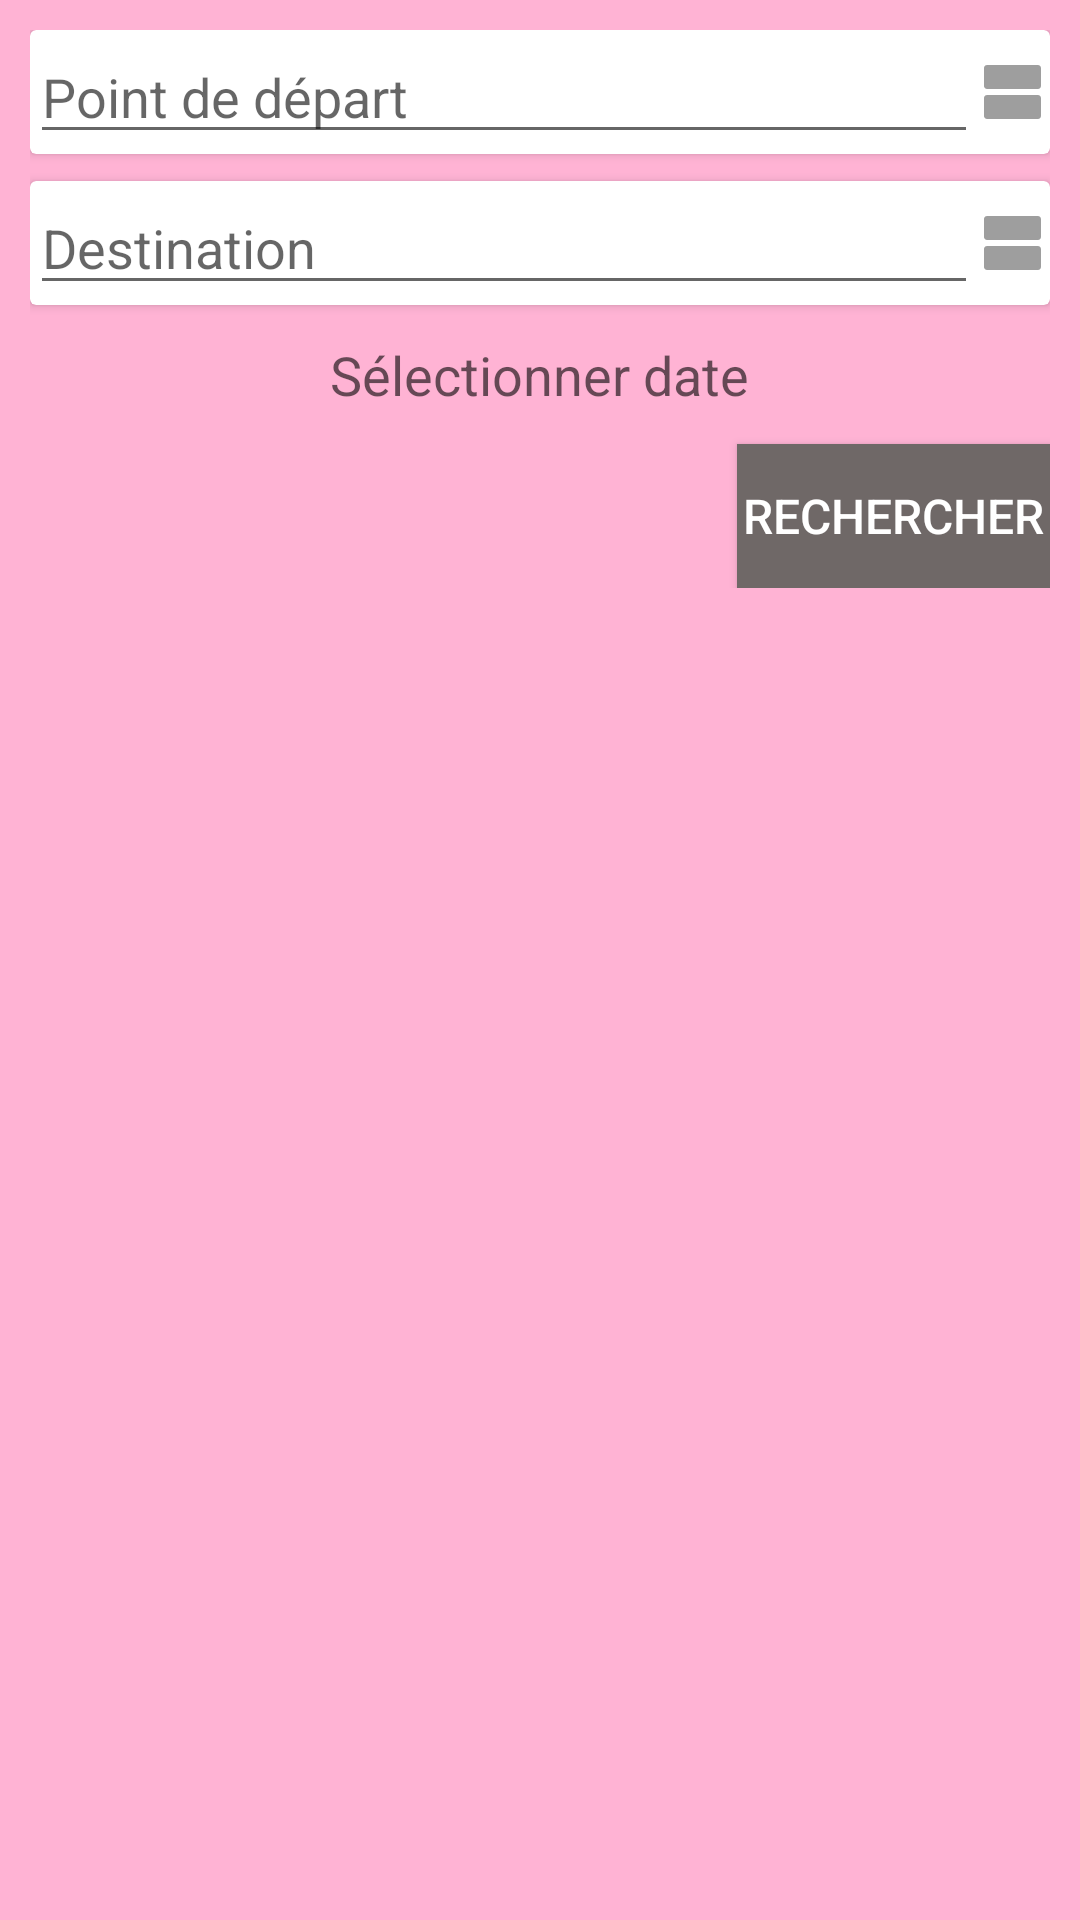

Where to tap for icons on this 1080 × 1920 app screen, as (x,y):
view agenda: (1012,92), (1012,243)
